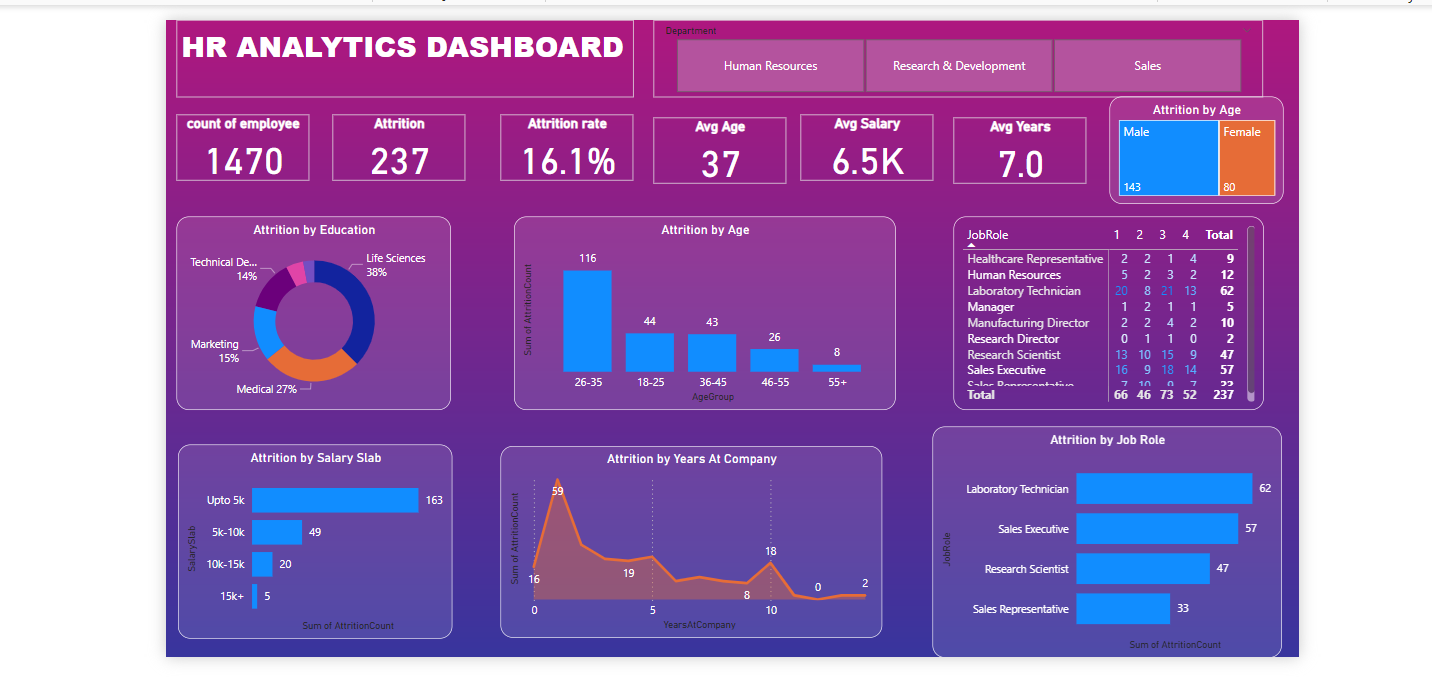

What the dashboard file says about the page in this screenshot:
{"tool":"powerbi","page":{"name":"Page 1","canvas":[1280,720],"ordinal":0},"visuals":[{"type":"card","title":"count of employee","fields":{"Values":["CountNonNull(HR_Analytics.EmpID)"]},"box":[12.2,107.3,149.9,74.9],"z":0},{"type":"card","title":"Attrition","fields":{"Values":["Sum(HR_Analytics.AttritionCount)"]},"box":[188.4,107.3,149.9,74.9],"z":1000},{"type":"card","title":"Attrition rate","fields":{"Values":["HR_Analytics.AttritionRate"]},"box":[378.7,107.3,149.9,74.9],"z":2000},{"type":"card","title":"Avg Age","fields":{"Values":["Avg(HR_Analytics.Age)"]},"box":[550.9,109.4,149.9,74.9],"z":3000},{"type":"card","title":"Avg Salary","fields":{"Values":["Avg(HR_Analytics.MonthlyIncome)"]},"box":[717,107.3,149.9,74.9],"z":4000},{"type":"card","title":"Avg Years","fields":{"Values":["Avg(HR_Analytics.YearsAtCompany)"]},"box":[889.1,109.4,149.9,74.9],"z":5000},{"type":"donutChart","title":"Attrition by Education","fields":{"Category":["HR_Analytics.EducationField"],"Y":["Sum(HR_Analytics.AttritionCount)"]},"box":[12.2,222.8,309.9,218.7],"z":6000},{"type":"columnChart","title":"Attrition by Age","fields":{"Category":["HR_Analytics.AgeGroup"],"Y":["Sum(HR_Analytics.AttritionCount)"]},"box":[392.9,222.8,431.4,218.7],"z":7000},{"type":"pivotTable","fields":{"Rows":["HR_Analytics.JobRole"],"Columns":["HR_Analytics.JobSatisfaction"],"Values":["Sum(HR_Analytics.AttritionCount)"]},"box":[889.1,222.8,350.4,218.7],"z":8000},{"type":"barChart","title":"Attrition by Salary Slab","fields":{"Category":["HR_Analytics.SalarySlab"],"Y":["Sum(HR_Analytics.AttritionCount)"]},"box":[12.7,480.4,310.2,219.5],"z":9000},{"type":"barChart","title":"Attrition by Job Role","fields":{"Y":["Sum(HR_Analytics.AttritionCount)"],"Category":["HR_Analytics.JobRole"]},"box":[866.8,459.7,394.9,261.3],"z":10000},{"type":"areaChart","title":"Attrition by Years At Company","fields":{"Category":["HR_Analytics.YearsAtCompany"],"Y":["Sum(HR_Analytics.AttritionCount)"]},"box":[378.7,482,431.4,216.7],"z":11000},{"type":"treemap","title":"Attrition by Age","fields":{"Group":["HR_Analytics.Gender"],"Values":["Sum(HR_Analytics.AttritionCount)"]},"box":[1065.3,87.1,196.5,121.5],"z":12000},{"type":"slicer","fields":{"Values":["HR_Analytics.Department"]},"box":[550.9,0,688.6,87.1],"z":13000},{"type":"textbox","box":[12.2,0,516.5,87.1],"z":14000}]}

Visuals, with their boxes on the page's 1280x720 design canvas (x1, y1, x2, y2). These are canvas units, not pixel positions in the 1432x677 screenshot, which may show the page scaled, cropped or inside an application window:
"count of employee" card: [x1=12, y1=107, x2=162, y2=182]
"Attrition" card: [x1=188, y1=107, x2=338, y2=182]
"Attrition rate" card: [x1=379, y1=107, x2=529, y2=182]
"Avg Age" card: [x1=551, y1=109, x2=701, y2=184]
"Avg Salary" card: [x1=717, y1=107, x2=867, y2=182]
"Avg Years" card: [x1=889, y1=109, x2=1039, y2=184]
"Attrition by Education" donutChart: [x1=12, y1=223, x2=322, y2=442]
"Attrition by Age" columnChart: [x1=393, y1=223, x2=824, y2=442]
pivotTable - HR_Analytics.JobRole x HR_Analytics.JobSatisfaction: [x1=889, y1=223, x2=1240, y2=442]
"Attrition by Salary Slab" barChart: [x1=13, y1=480, x2=323, y2=700]
"Attrition by Job Role" barChart: [x1=867, y1=460, x2=1262, y2=721]
"Attrition by Years At Company" areaChart: [x1=379, y1=482, x2=810, y2=699]
"Attrition by Age" treemap: [x1=1065, y1=87, x2=1262, y2=209]
slicer - HR_Analytics.Department: [x1=551, y1=0, x2=1240, y2=87]
textbox: [x1=12, y1=0, x2=529, y2=87]
